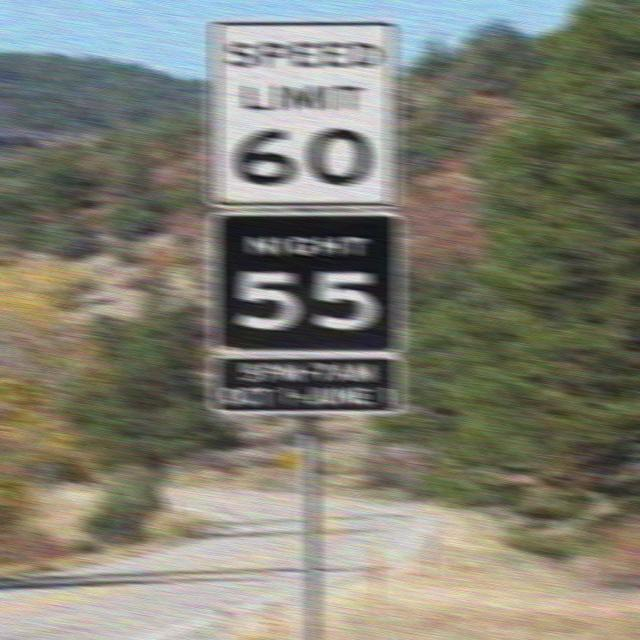speedLimit60: (200, 6, 404, 214)
